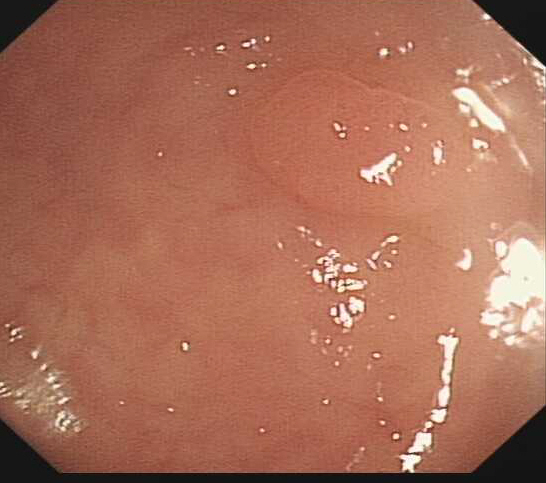adenoma: (248, 68, 478, 220)
